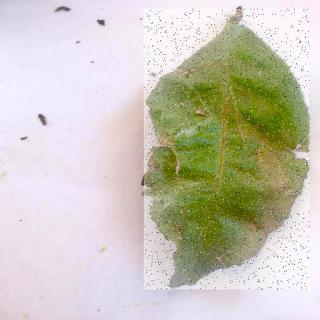Brown Blight: (145, 11, 311, 292)
